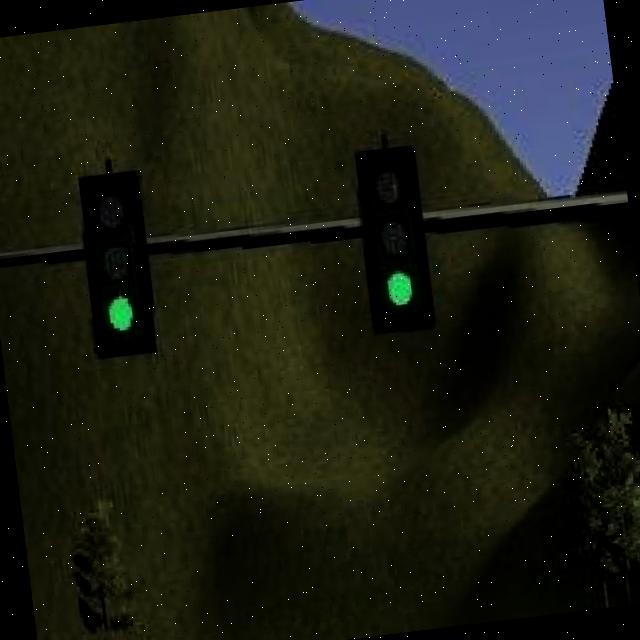Zielone swiatlo: (354, 144, 438, 333), (78, 167, 160, 359)
